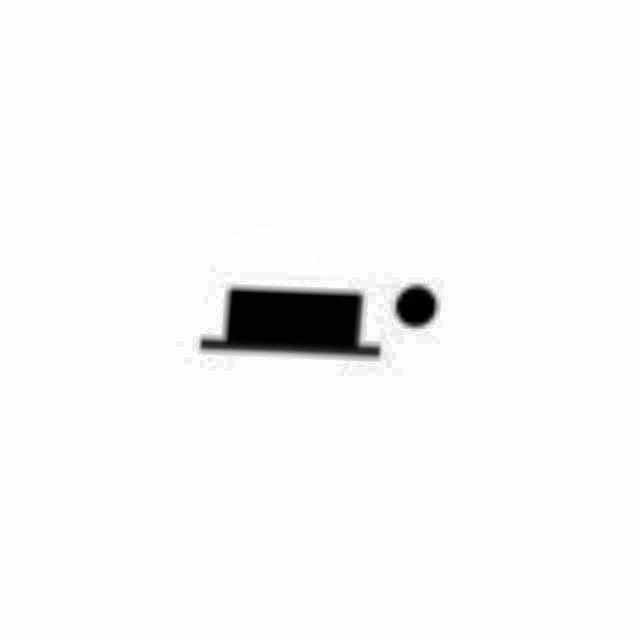Half-rest: (170, 258, 458, 376)
